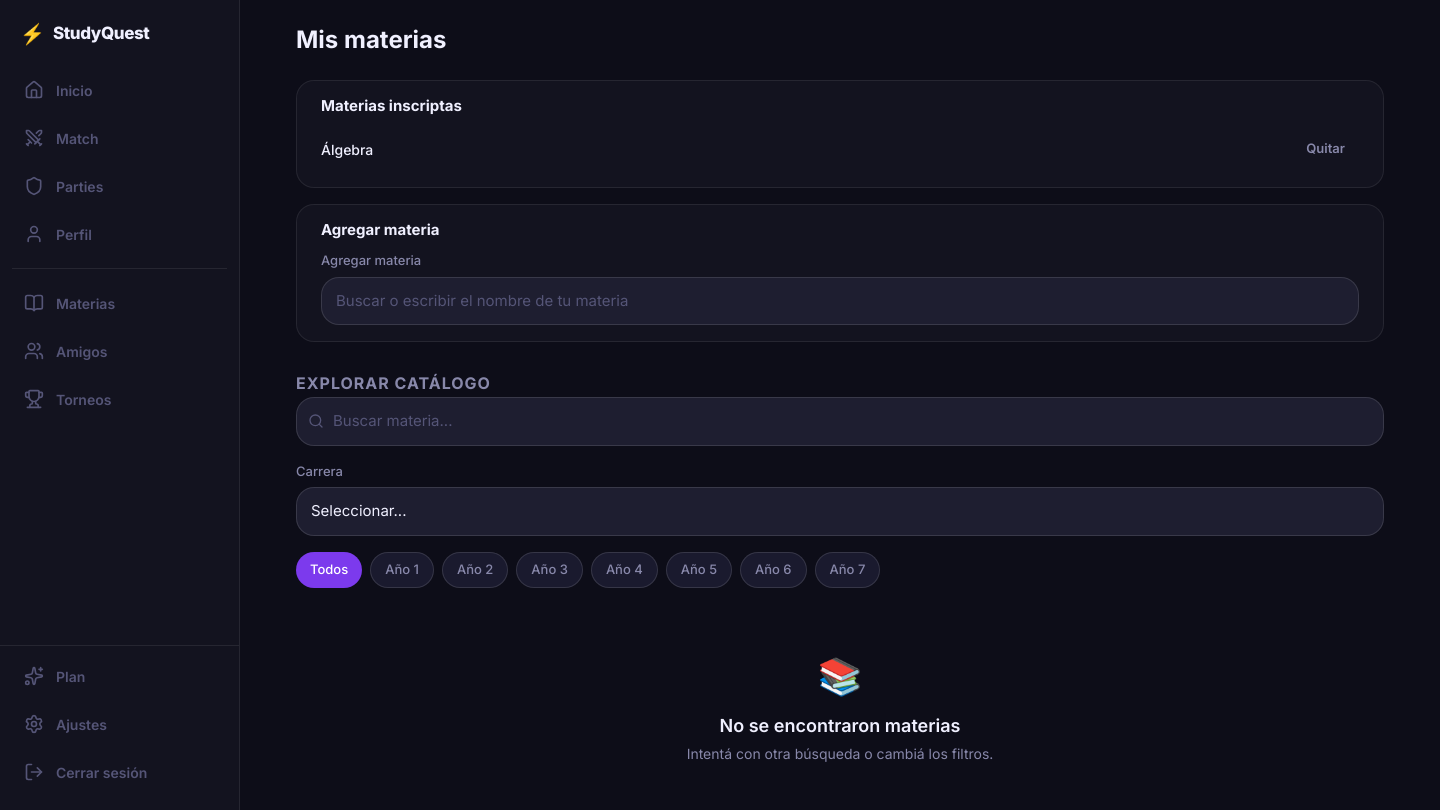
Test: SubjectExplorerPage › renders official and private badges for suggested subjects
The width and height of the screenshot is (1440, 810).
Type "anal" into the field labelled "Agregar materia".
click(840, 301); type("anal")  # box top-left (321, 276), bottom-right (1359, 325)
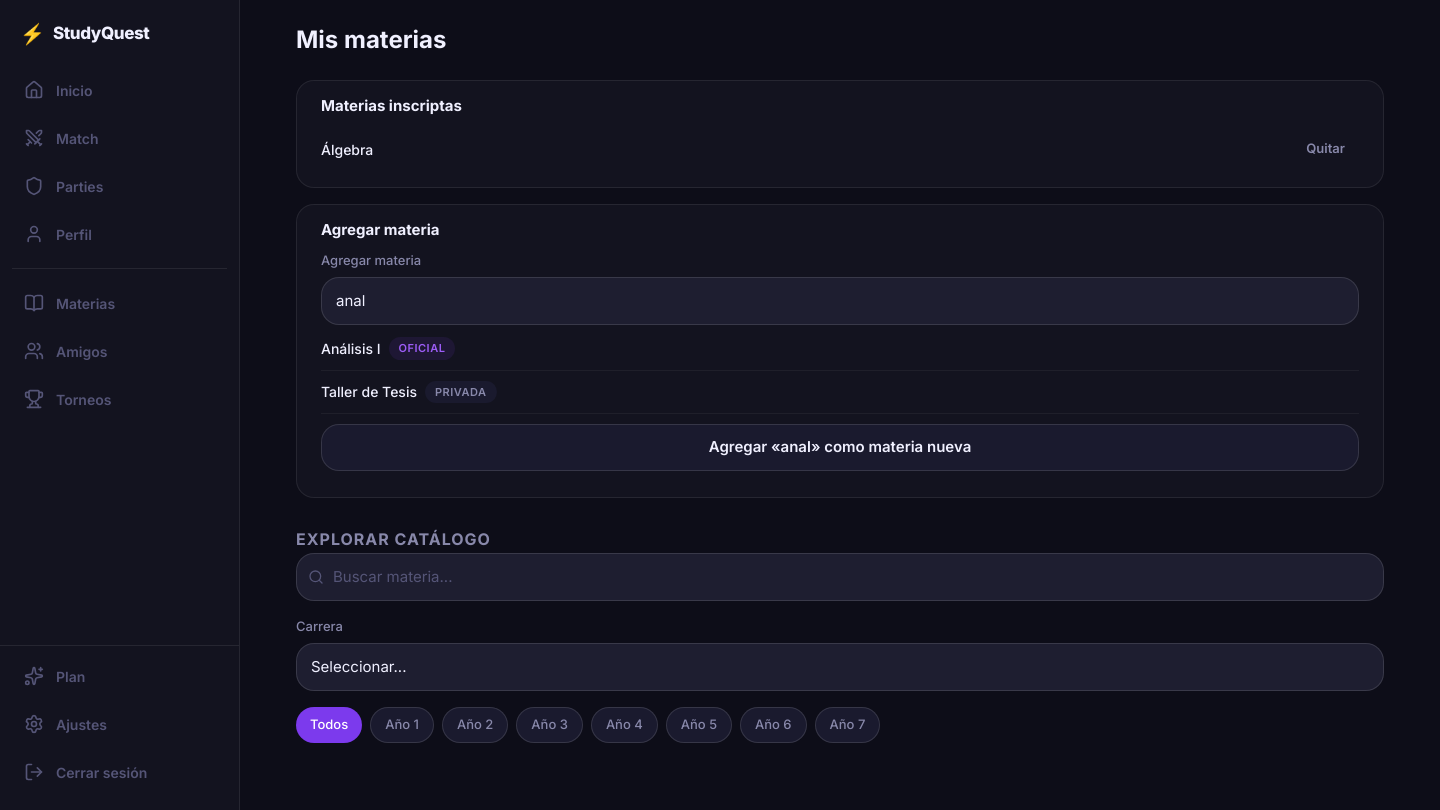
Expected: the text "Análisis I" is shown, top-left (321, 338), bottom-right (380, 359)
Expected: the text "Oficial" is shown, top-left (388, 337), bottom-right (455, 360)
Expected: the text "Taller de Tesis" is shown, top-left (321, 381), bottom-right (417, 402)
